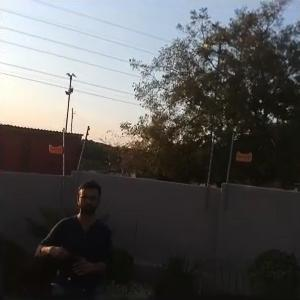follow: (29, 170, 123, 299)
